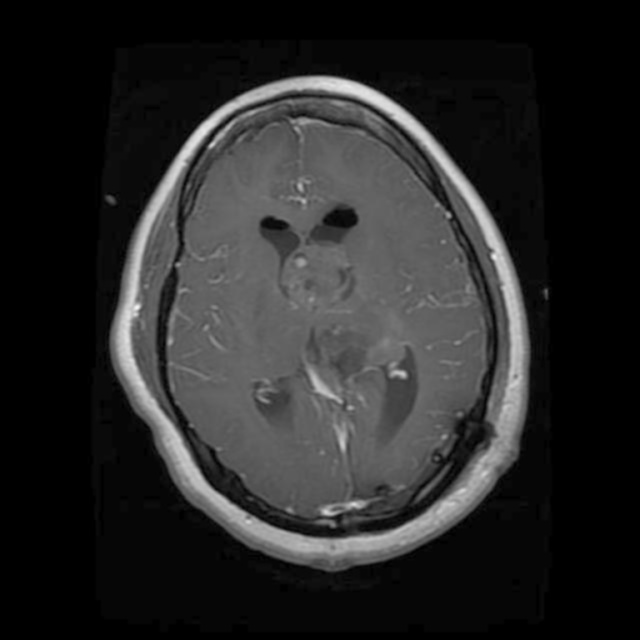pituitary tumor: (278, 238, 362, 308)
